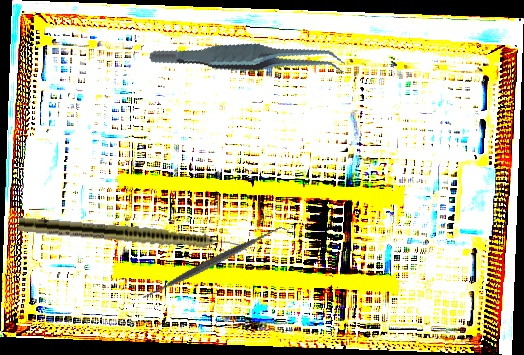Handpiece: (17, 216, 249, 255)
Spatula Surgical: (134, 184, 291, 341)
Tissue Forceps: (147, 8, 349, 109)
